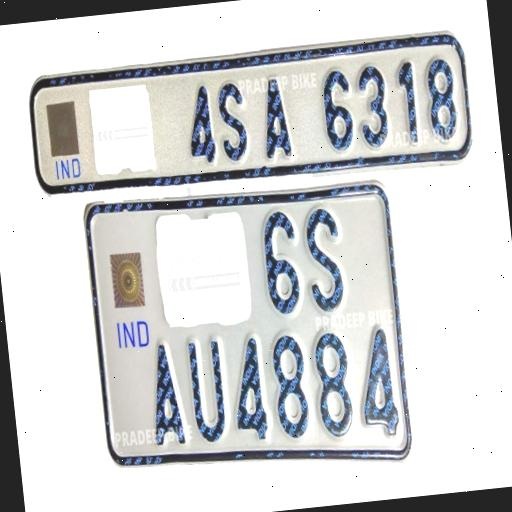number plate: (73, 169, 429, 498), (24, 22, 474, 206)
